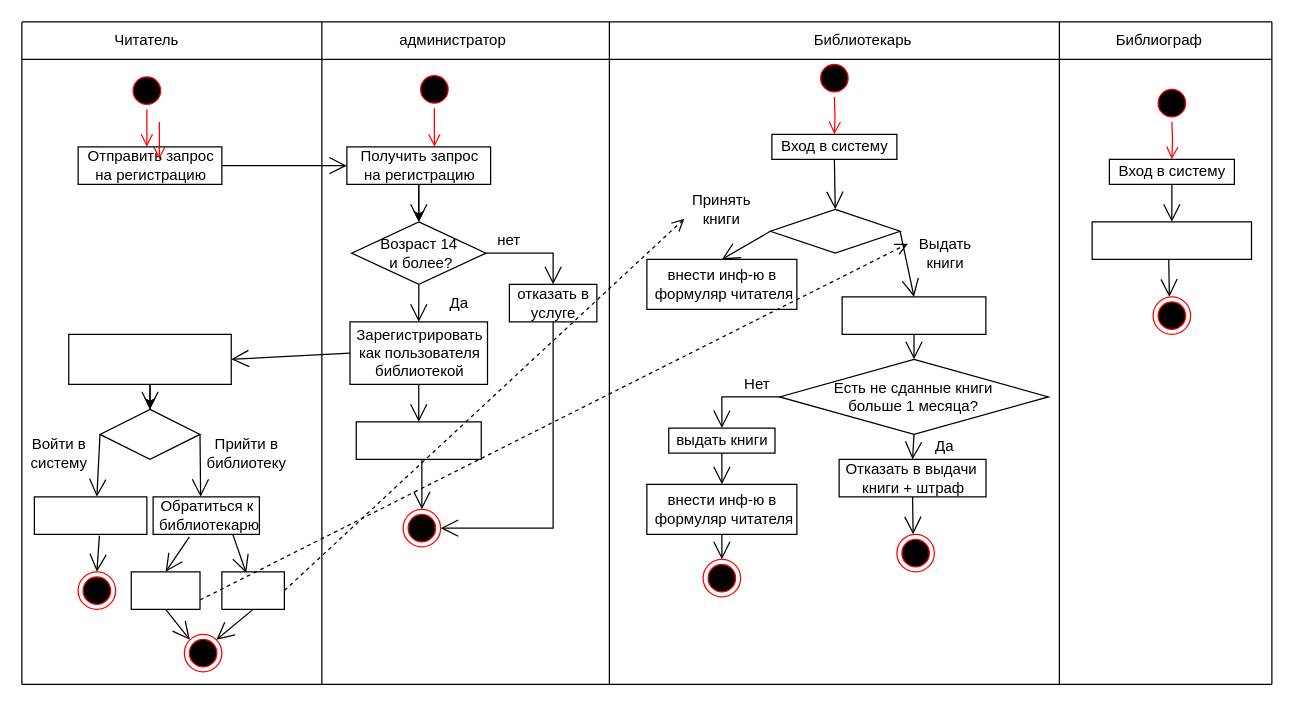
The diagram is 1295 pixels wide and 708 high, and some of its shapes have lost their labels. Here are the shapes that lost their labels. From the top down, the centre of each, then its label:
point (1171, 240): Внести информацию о книгах
point (913, 315): Проверить инф-ю о пользователе
point (149, 358): Стать пользователем библиотеки
point (418, 440): Внести данные о пользователе
point (90, 515): Забронировать книгу
point (165, 590): Взять книгу
point (252, 590): Вернуть книгу
